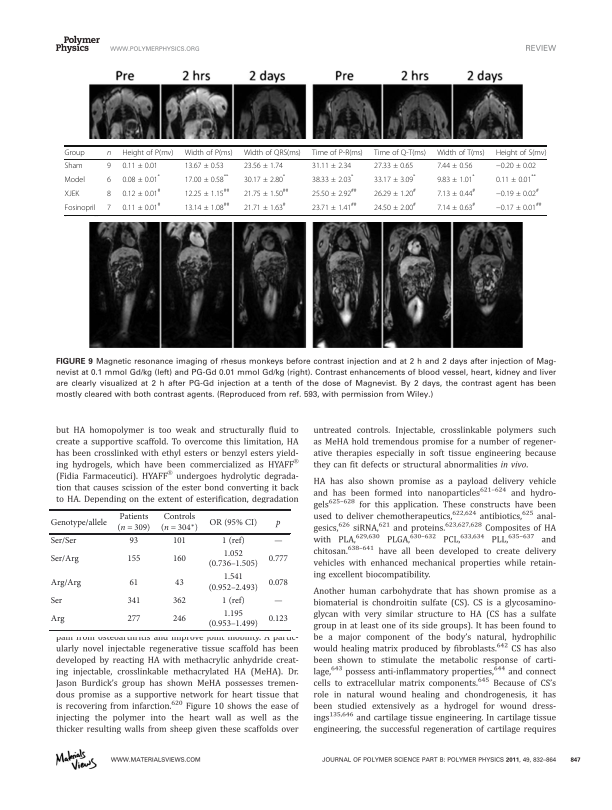borderless: (64, 144, 547, 215), (49, 508, 291, 631)
cell: (207, 549, 258, 570), (207, 572, 258, 593), (207, 609, 258, 630), (160, 512, 199, 533), (116, 512, 151, 533), (49, 517, 107, 528), (208, 517, 258, 528), (243, 148, 302, 157), (495, 201, 542, 212), (184, 187, 230, 198), (243, 187, 289, 198), (311, 187, 357, 198), (184, 201, 230, 212), (311, 201, 357, 212), (184, 173, 229, 184), (495, 187, 540, 198), (373, 148, 427, 157), (373, 187, 417, 198), (243, 201, 287, 212), (373, 201, 417, 212), (121, 148, 174, 157), (311, 148, 364, 157), (243, 173, 286, 184), (311, 173, 354, 184), (373, 173, 416, 184), (495, 148, 547, 157), (495, 173, 537, 184), (436, 148, 486, 157), (184, 148, 233, 157), (121, 173, 161, 184), (436, 173, 476, 184), (121, 187, 161, 198), (436, 187, 476, 198), (121, 201, 161, 212), (436, 201, 476, 212), (495, 161, 537, 170), (184, 161, 225, 170), (243, 161, 284, 170), (311, 161, 352, 170), (373, 161, 414, 170), (49, 577, 82, 588), (121, 161, 159, 170), (436, 161, 473, 170), (49, 554, 79, 564), (64, 203, 96, 212), (49, 536, 77, 546), (221, 536, 245, 546), (221, 596, 245, 606), (267, 577, 288, 588), (267, 614, 288, 625), (267, 554, 288, 564), (64, 175, 86, 184), (64, 148, 85, 157), (49, 614, 65, 625), (64, 161, 83, 170), (126, 614, 141, 625), (172, 614, 187, 625), (172, 536, 187, 546), (126, 554, 141, 564), (172, 554, 187, 564), (126, 596, 141, 606), (172, 596, 187, 606), (64, 189, 80, 198), (49, 596, 63, 606), (128, 577, 139, 588), (128, 536, 139, 546), (174, 577, 184, 588), (275, 519, 281, 528), (106, 161, 112, 170), (106, 175, 112, 184), (106, 189, 112, 198), (106, 203, 112, 212), (273, 540, 283, 544), (273, 600, 283, 604), (106, 150, 112, 156)
